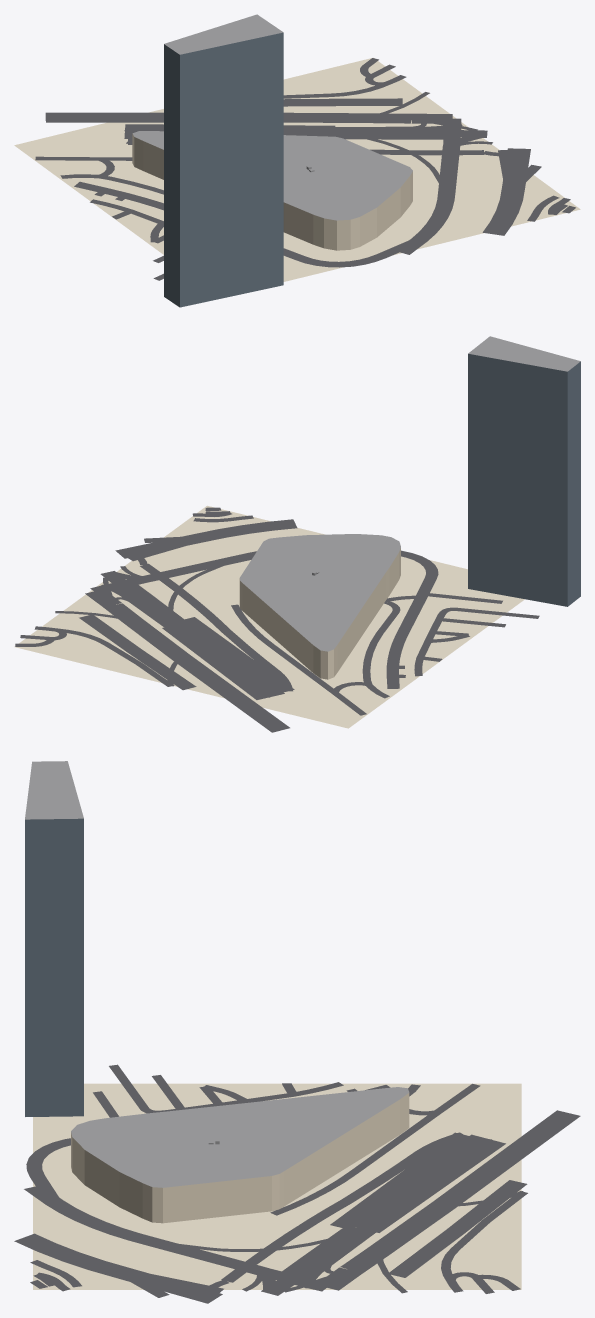
The model's file is tile_-1_-1_far.glb.
3 views of the same model, one above another, from view 1: azimuth 30°, elevation 25°; view 2: azimuth 150°, elevation 25°; view 3: azimuth 270°, elevation 25° (orthographic). The views are drawn at different scales.
Parts seen in each view (by area): view 1: buildings_glass_dark, nature_ground, roads_asphalt, buildings_roof, buildings_sandstone; view 2: nature_ground, buildings_glass_dark, roads_asphalt, buildings_roof, buildings_sandstone; view 3: nature_ground, roads_asphalt, buildings_roof, buildings_glass_dark, buildings_sandstone.
Part boxes in pixels (box(x1,y1,x2,y2)): buildings_glass_dark: box(164, 32, 283, 307); nature_ground: box(14, 57, 580, 281); roads_asphalt: box(35, 58, 575, 280); buildings_roof: box(132, 14, 412, 220); buildings_sandstone: box(132, 133, 412, 250); nature_ground: box(14, 505, 524, 728); buildings_glass_dark: box(468, 353, 580, 606); roads_asphalt: box(15, 507, 539, 732); buildings_roof: box(240, 336, 580, 651); buildings_sandstone: box(239, 548, 400, 679); nature_ground: box(33, 1083, 521, 1289); roads_asphalt: box(14, 1064, 580, 1303); buildings_roof: box(25, 761, 409, 1187); buildings_glass_dark: box(25, 818, 83, 1116); buildings_sandstone: box(71, 1093, 409, 1223).
Size of the model in its own units: 297 by 168 by 290.
